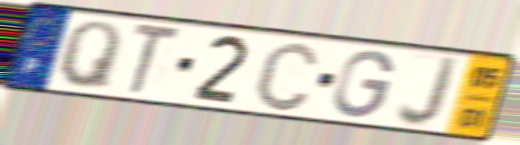2: (191, 34, 249, 106)
C: (251, 39, 322, 114)
G: (331, 48, 398, 120)
J: (394, 53, 463, 130)
Q: (54, 18, 125, 93)
T: (127, 21, 185, 98)
